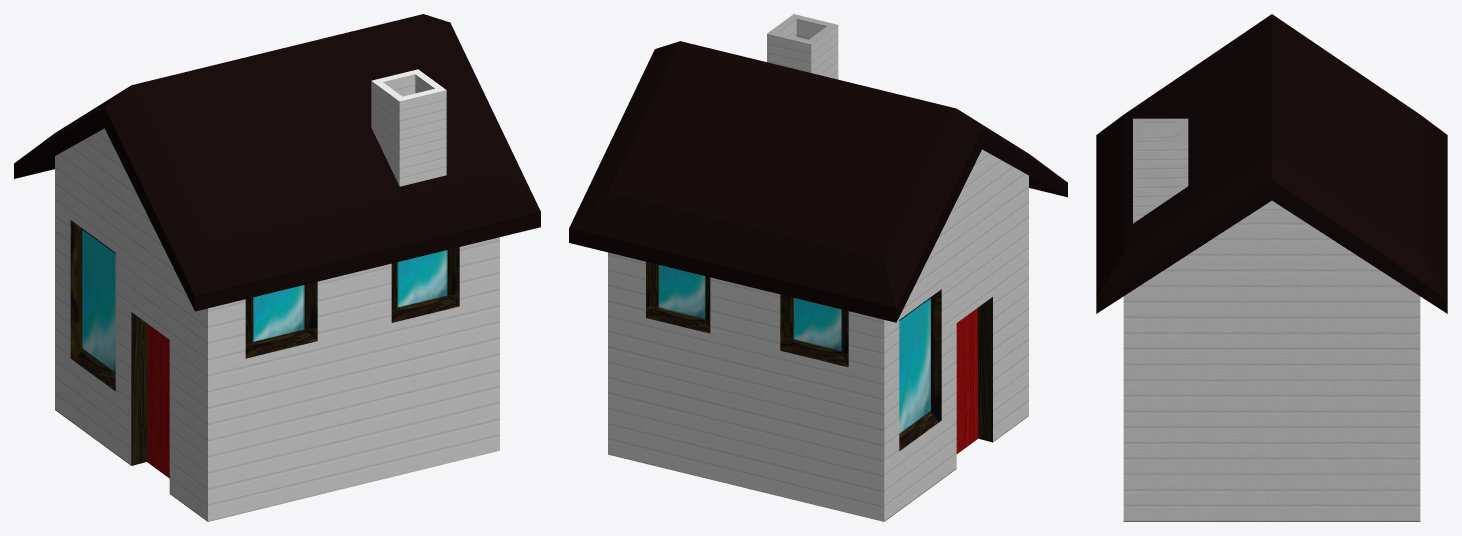
The model's file is Building_Small 1.fbx.
3 views of the same model, side by side, from view 1: azimuth 30°, elevation 25°; view 2: azimuth 150°, elevation 25°; view 3: azimuth 270°, elevation 25° (orthographic). The views are drawn at different scales.
Parts seen in each view (by area): view 1: Cube; view 2: Cube; view 3: Cube.
Boxes of the visible parts, <box> form: Cube: <box>14,14,540,521</box>; Cube: <box>569,14,1067,521</box>; Cube: <box>1096,14,1447,521</box>.
Bounding box in the file's own units: 10.79 × 11.36 × 9.79.
1 material, 1 textured.
